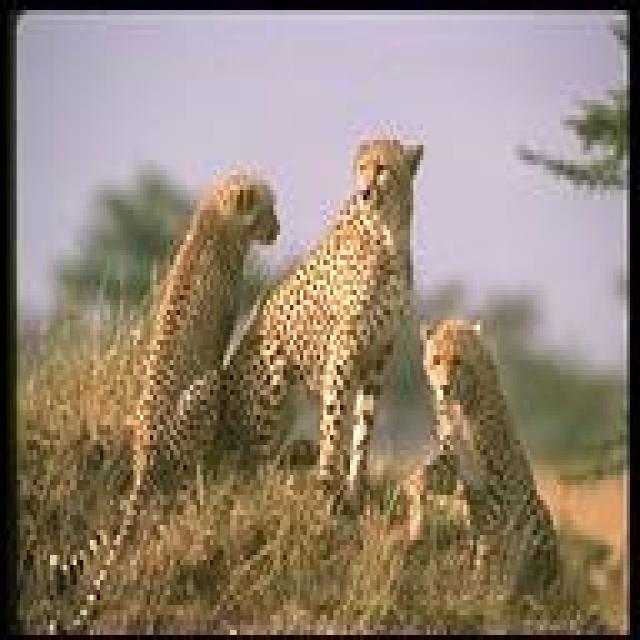Leopard: (228, 127, 423, 489)
